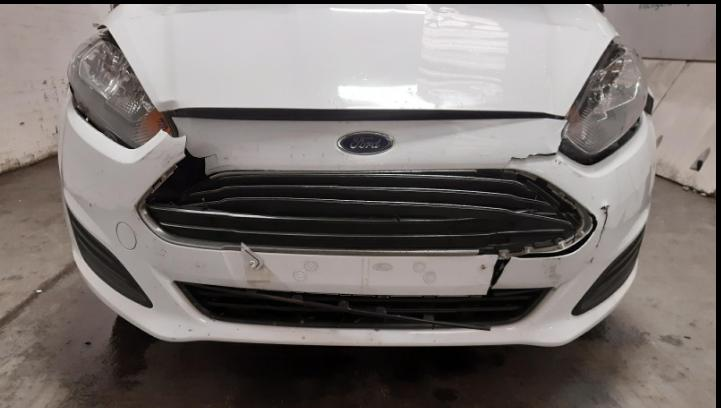Front-bumper: (56, 87, 654, 347)
Grille: (136, 167, 598, 330)
Headlight: (66, 30, 174, 149), (565, 42, 648, 154)
Hood: (99, 2, 619, 118)
License-plate: (241, 243, 278, 281)
